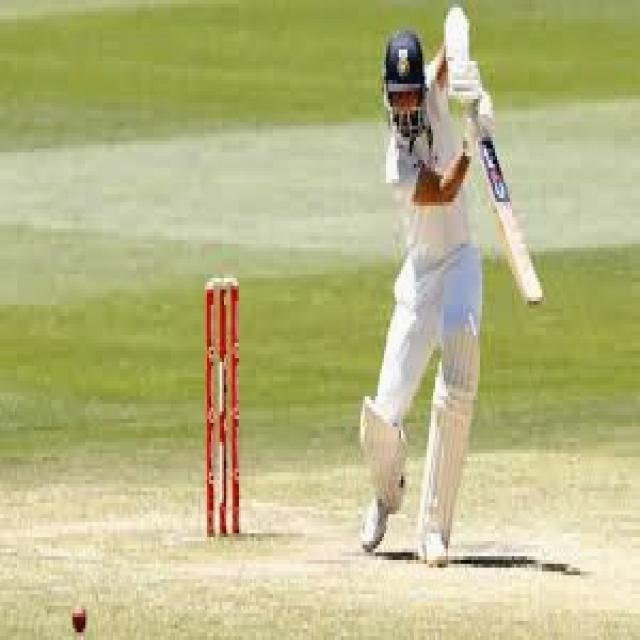bat: (474, 141, 549, 312)
toe: (524, 294, 548, 309)
